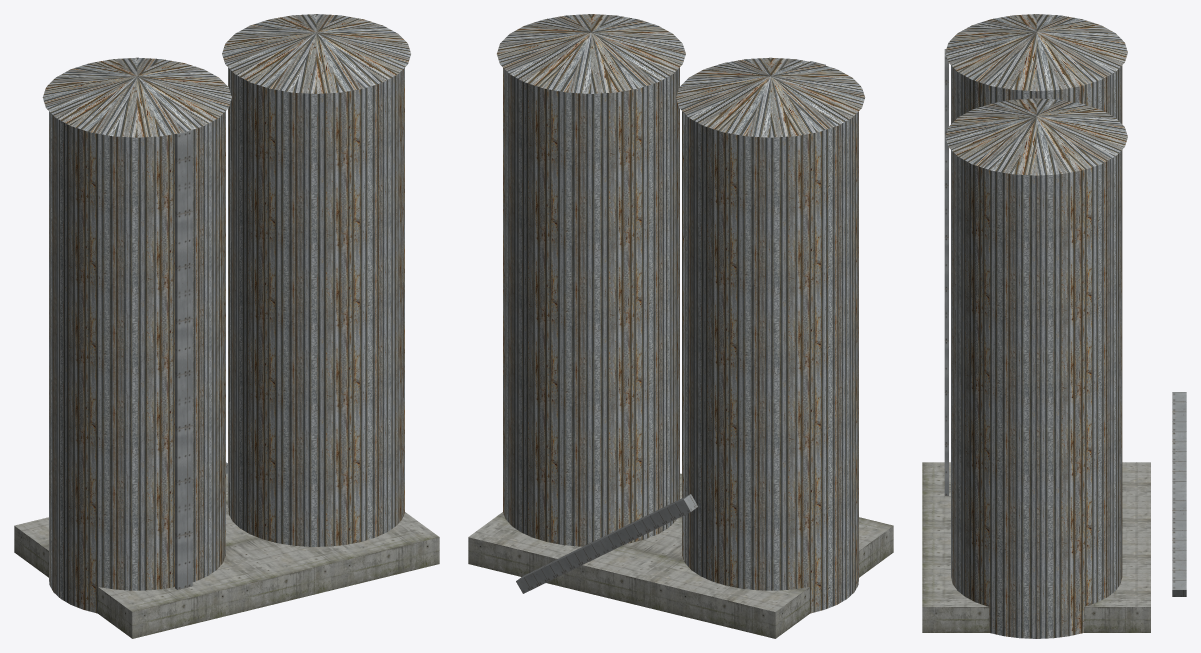
File: grain-silo-twin_lod0.gltf
3 renders of one model, left to right at view 1: azimuth 30°, elevation 25°; view 2: azimuth 150°, elevation 25°; view 3: azimuth 270°, elevation 25°, orthographic. The views are drawn at different scales.
Visible parts, largest first — view 1: grain-silo-twin_cyl1, grain-silo-twin_cyl0, grain-silo-twin_base, grain-silo-twin__cap_a, grain-silo-twin__cap_b, grain-silo-twin__ladder; view 2: grain-silo-twin_cyl0, grain-silo-twin_cyl1, grain-silo-twin_base, grain-silo-twin__cap_a, grain-silo-twin__cap_b, grain-silo-twin__auger; view 3: grain-silo-twin_cyl1, grain-silo-twin_base, grain-silo-twin__cap_b, grain-silo-twin__cap_a, grain-silo-twin_cyl0, grain-silo-twin__auger, grain-silo-twin__ladder.
Boxes of the visible parts, x1,y1,x2,y2 form: grain-silo-twin_cyl1: (228, 67, 404, 546); grain-silo-twin_cyl0: (49, 111, 225, 613); grain-silo-twin_base: (14, 473, 439, 638); grain-silo-twin__cap_a: (42, 57, 231, 137); grain-silo-twin__cap_b: (222, 14, 410, 93); grain-silo-twin__ladder: (175, 130, 192, 589); grain-silo-twin_cyl0: (682, 111, 858, 613); grain-silo-twin_cyl1: (503, 67, 679, 546); grain-silo-twin_base: (468, 473, 893, 638); grain-silo-twin__cap_a: (676, 57, 865, 137); grain-silo-twin__cap_b: (497, 14, 685, 93); grain-silo-twin__auger: (516, 494, 697, 593); grain-silo-twin_cyl1: (951, 150, 1122, 638); grain-silo-twin_base: (922, 462, 1150, 632); grain-silo-twin__cap_b: (945, 98, 1127, 175); grain-silo-twin__cap_a: (945, 14, 1127, 91); grain-silo-twin_cyl0: (951, 65, 1122, 123); grain-silo-twin__auger: (1172, 392, 1186, 596); grain-silo-twin__ladder: (944, 49, 948, 495).
Bounding box in the file's own units: 13.4 × 18.8 × 9.25.
